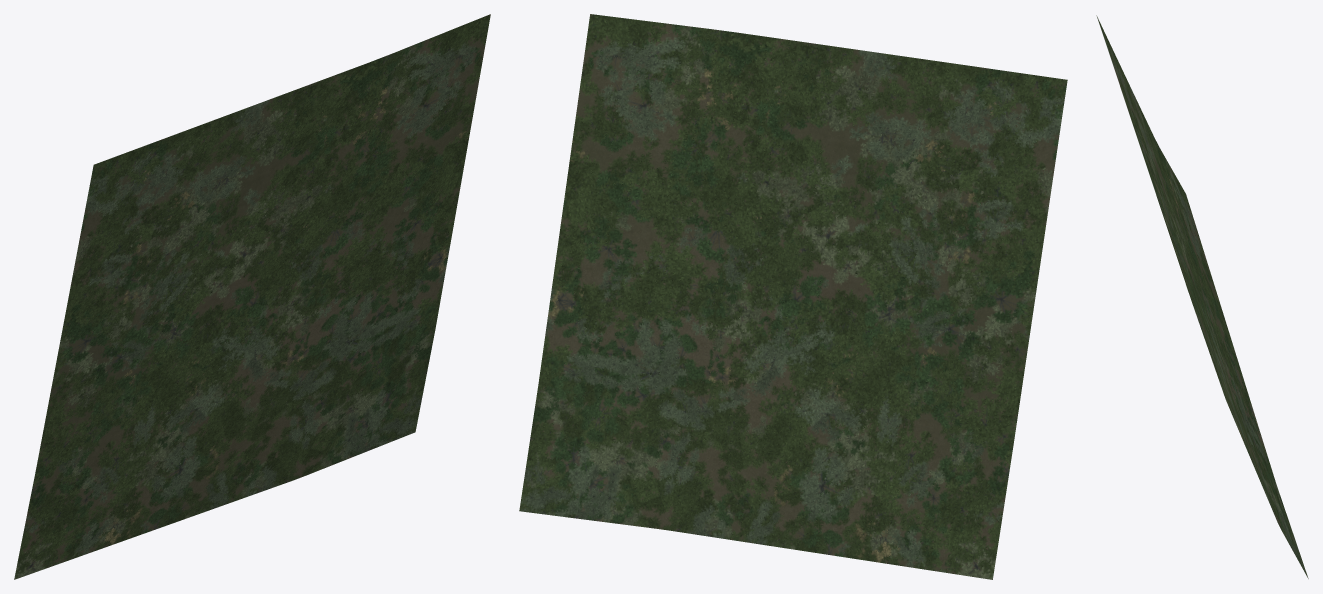
File: terrain_core_02_07.obj
The picture shows the model from 3 angles, left to right: view 1: azimuth 30°, elevation 25°; view 2: azimuth 150°, elevation 25°; view 3: azimuth 270°, elevation 25°; orthographic projection. The views are drawn at different scales.
Parts seen in each view (by area): view 1: terrain_core_02_07; view 2: terrain_core_02_07; view 3: terrain_core_02_07.
Boxes of the visible parts, <box> form: terrain_core_02_07: <box>14,14,490,579</box>; terrain_core_02_07: <box>519,14,1067,579</box>; terrain_core_02_07: <box>1096,15,1308,578</box>.
Bounding box in the file's own units: 32 × 32 × 15.99.
Materials: 1 (1 with a texture image).
